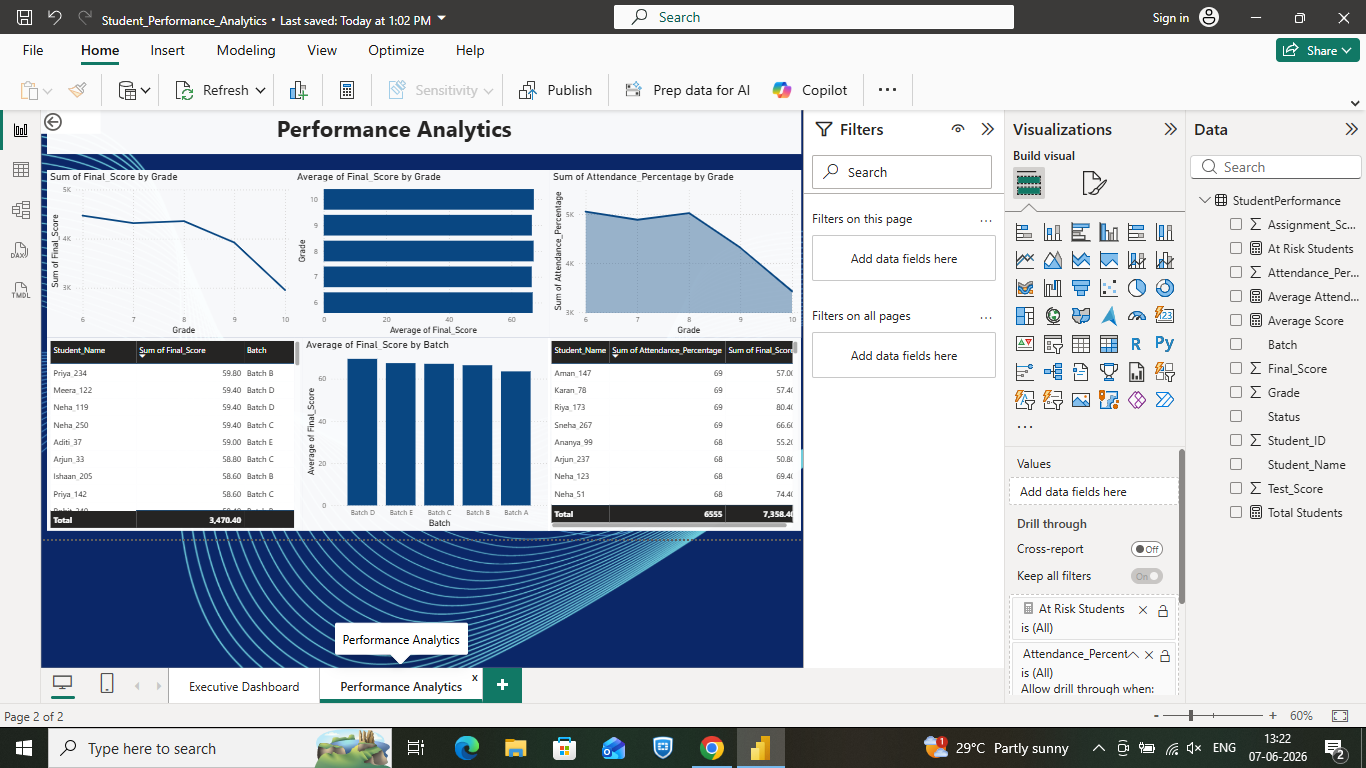

Layout of this report page (visuals, bound fields, positions):
{"tool":"powerbi","page":{"name":"Performance Analytics","canvas":[1280,720],"ordinal":1},"visuals":[{"type":"textbox","box":[10.1,0,1266.6,73.9],"z":0},{"type":"clusteredBarChart","fields":{"Category":["StudentPerformance.Grade"],"Y":["Avg(StudentPerformance.Final_Score)"]},"box":[425,100.8,430,282.2],"z":1},{"type":"clusteredColumnChart","fields":{"Category":["StudentPerformance.Batch"],"Y":["Avg(StudentPerformance.Final_Score)"]},"box":[440.1,383,414.9,324.2],"z":2},{"type":"tableEx","fields":{"Values":["StudentPerformance.Student_Name","Sum(StudentPerformance.Final_Score)","StudentPerformance.Batch"]},"box":[10.1,383,430,324.2],"z":3},{"type":"tableEx","fields":{"Values":["StudentPerformance.Student_Name","Sum(StudentPerformance.Attendance_Percentage)","Sum(StudentPerformance.Final_Score)"]},"box":[851.7,383,425,324.2],"z":4},{"type":"actionButton","box":[0,0,100,40],"z":5},{"type":"lineChart","fields":{"Y":["Sum(StudentPerformance.Final_Score)"],"Category":["StudentPerformance.Grade"]},"box":[10.1,100.8,414.9,282.2],"z":6},{"type":"areaChart","fields":{"Category":["StudentPerformance.Grade"],"Y":["Sum(StudentPerformance.Attendance_Percentage)"]},"box":[855,100.8,421.6,282.2],"z":7}]}

Visuals, with their boxes on the page's 1280x720 design canvas (x1, y1, x2, y2). These are canvas units, not pixel positions in the 1366x768 screenshot, which may show the page scaled, cropped or inside an application window:
textbox: bbox=[10, 0, 1277, 74]
clusteredBarChart - StudentPerformance.Grade x Avg(StudentPerformance.Final_Score): bbox=[425, 101, 855, 383]
clusteredColumnChart - StudentPerformance.Batch x Avg(StudentPerformance.Final_Score): bbox=[440, 383, 855, 707]
tableEx - StudentPerformance.Student_Name x Sum(StudentPerformance.Final_Score): bbox=[10, 383, 440, 707]
tableEx - StudentPerformance.Student_Name x Sum(StudentPerformance.Attendance_Percentage): bbox=[852, 383, 1277, 707]
actionButton: bbox=[0, 0, 100, 40]
lineChart - Sum(StudentPerformance.Final_Score) x StudentPerformance.Grade: bbox=[10, 101, 425, 383]
areaChart - StudentPerformance.Grade x Sum(StudentPerformance.Attendance_Percentage): bbox=[855, 101, 1277, 383]
